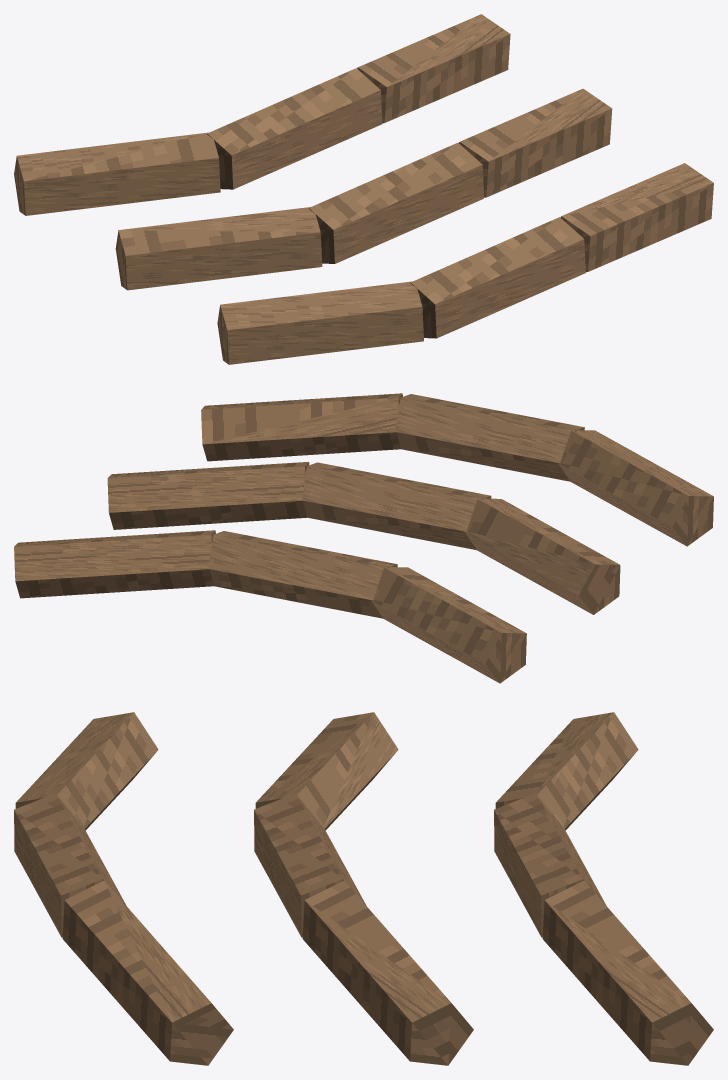
File: seed_hops.glb
The picture shows the model from 3 angles, top to bottom: view 1: azimuth 30°, elevation 25°; view 2: azimuth 150°, elevation 25°; view 3: azimuth 270°, elevation 25°; orthographic projection. The views are drawn at different scales.
Parts seen in each view (by area): view 1: block_root cutting 0 (×3), block_root cutting 1 (×3), block_root cutting 2 (×3); view 2: block_root cutting 2 (×3), block_root cutting 1 (×3), block_root cutting 0 (×3); view 3: block_root cutting 2 (×3), block_root cutting 0 (×3), block_root cutting 1 (×3).
Part boxes in pixels (x1,y1,x2,y2): block_root cutting 0 (×3): [14, 132, 423, 364]; block_root cutting 1 (×3): [207, 68, 585, 338]; block_root cutting 2 (×3): [357, 14, 713, 272]; block_root cutting 2 (×3): [14, 393, 402, 598]; block_root cutting 1 (×3): [208, 394, 584, 618]; block_root cutting 0 (×3): [371, 430, 713, 683]; block_root cutting 2 (×3): [62, 880, 713, 1065]; block_root cutting 0 (×3): [15, 712, 638, 830]; block_root cutting 1 (×3): [14, 793, 606, 937].
Size of the model in its own units: 0.0707 by 0.01 by 0.0699.
Materials: 1 (1 with a texture image).
